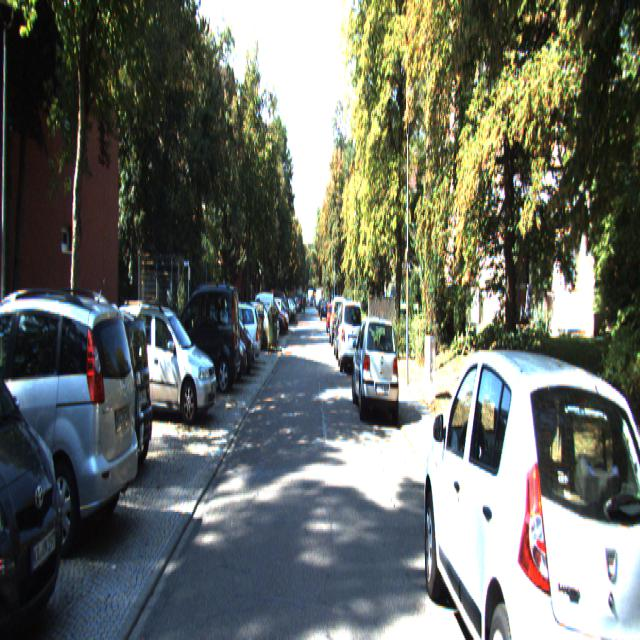Car: (422, 328, 640, 638), (0, 284, 142, 562), (25, 308, 156, 498), (0, 306, 74, 638), (110, 297, 218, 425), (163, 281, 241, 398), (352, 312, 400, 427), (200, 303, 260, 375), (338, 297, 366, 374)
